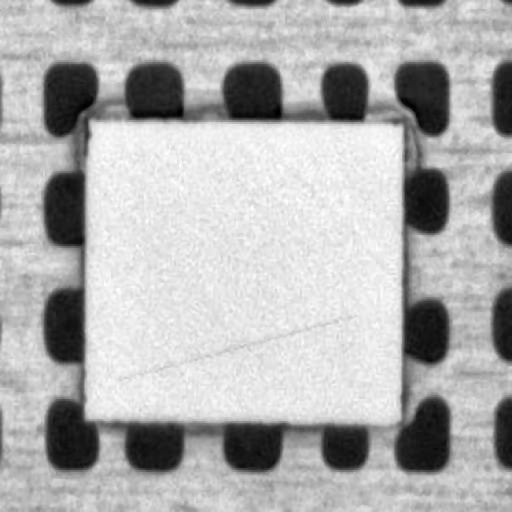DIE_CRACK: (157, 236, 470, 284)
